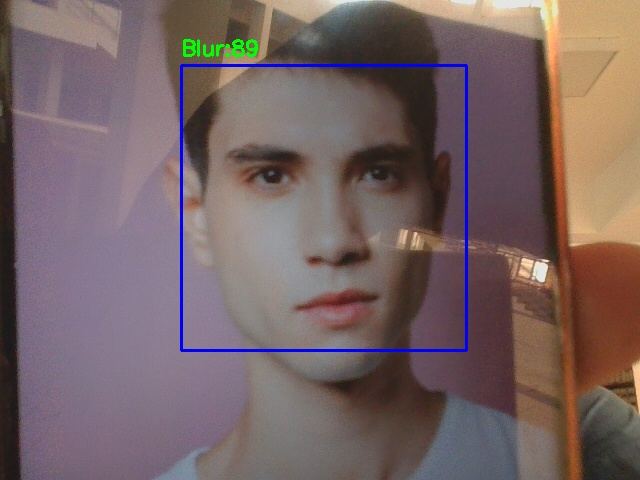fake: (181, 65, 466, 350)
